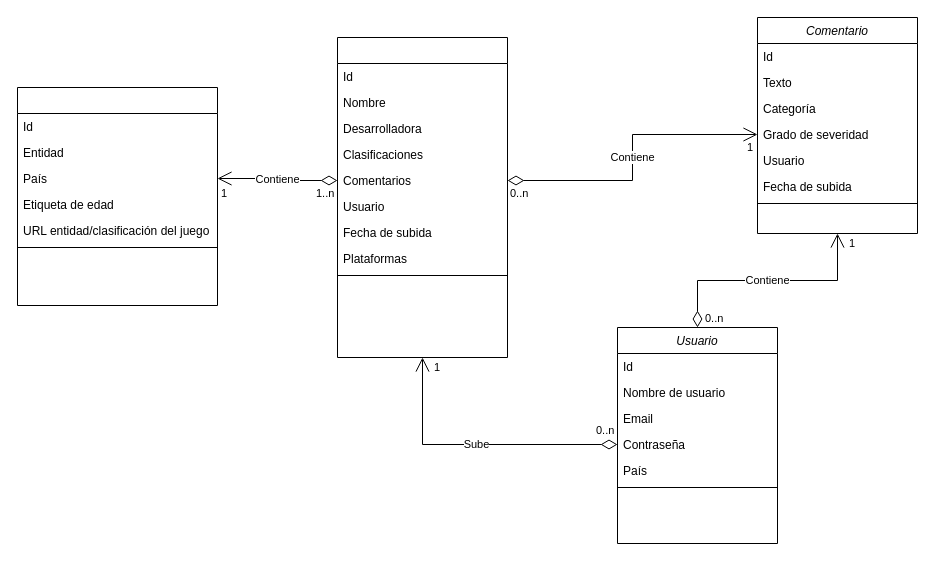
This 935x561 diagram has some shape labels left out. Each missing label, with the box of its shape:
Clasificación específica: (16, 86, 218, 306)
Videojuego: (336, 36, 508, 358)
